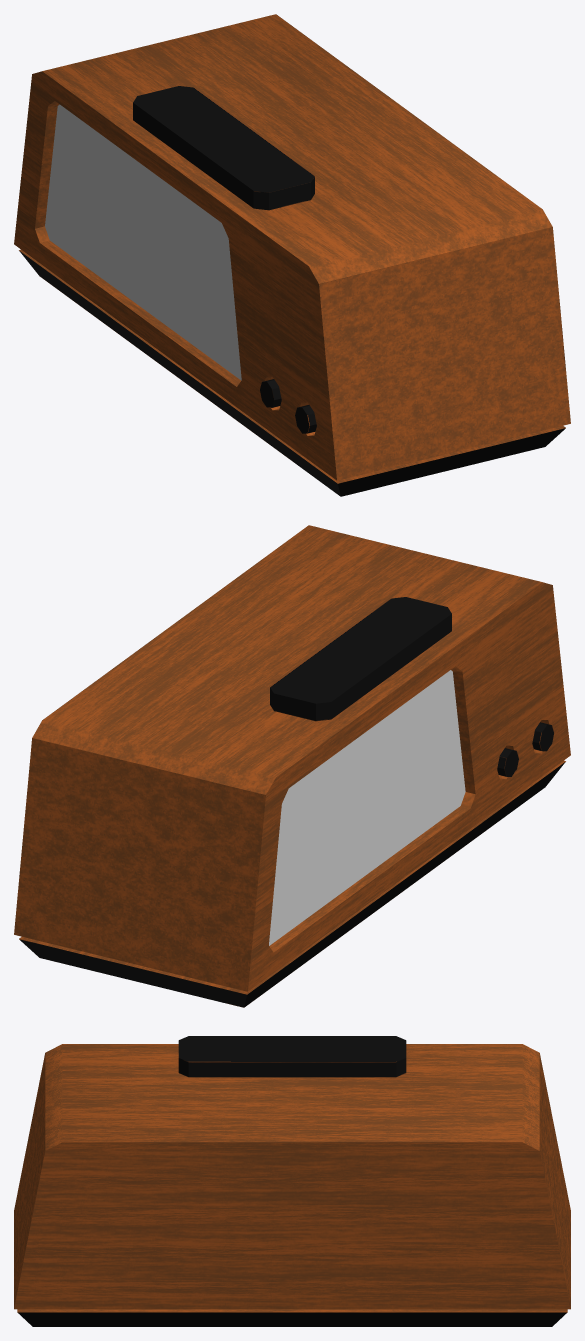
The model's file is clock.glb.
The picture shows the model from 3 angles, top to bottom: view 1: azimuth 30°, elevation 25°; view 2: azimuth 150°, elevation 25°; view 3: azimuth 270°, elevation 25°; orthographic projection. The views are drawn at different scales.
Parts seen in each view (by area): view 1: clock, screen; view 2: clock, screen; view 3: clock.
Boxes of the visible parts, bbox=[...] form: clock: bbox=[14, 14, 570, 496]; screen: bbox=[45, 104, 241, 380]; clock: bbox=[14, 525, 570, 1007]; screen: bbox=[269, 670, 465, 945]; clock: bbox=[14, 1036, 570, 1326].
Size of the model in its own units: 0.8554 by 0.8163 by 2.
1 material, 1 textured.
